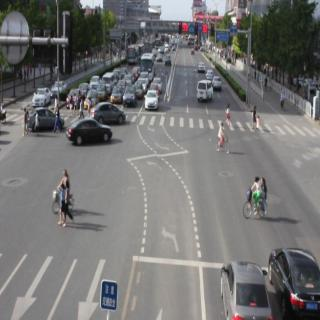BigCar: (138, 54, 159, 79)
Car: (261, 239, 320, 320), (211, 251, 273, 320), (21, 104, 64, 142), (63, 116, 115, 147), (92, 98, 126, 125), (192, 74, 215, 103), (32, 85, 53, 114), (140, 85, 161, 112)
